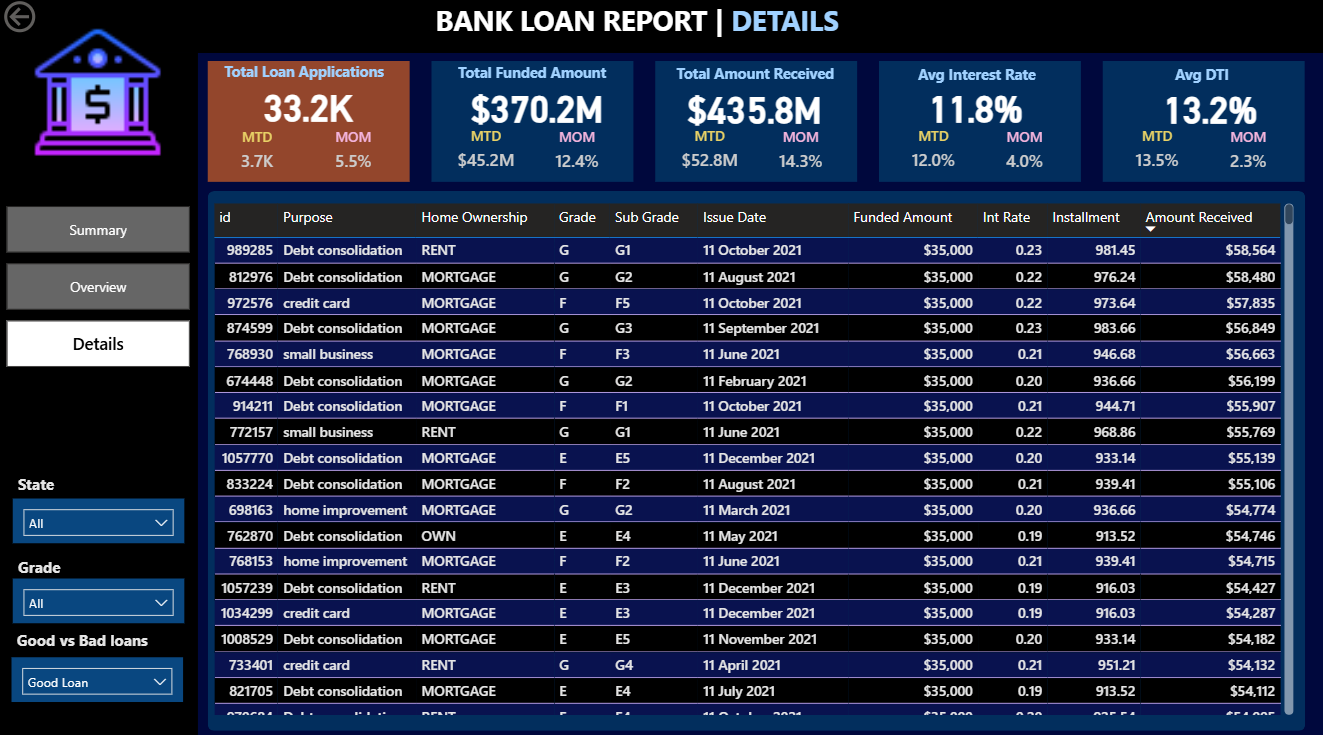

This screenshot's page, from the dashboard's own definition file:
{"tool":"powerbi","page":{"name":"Details ","canvas":[1280,720],"ordinal":2},"visuals":[{"type":"shape","box":[201.7,62.7,194.9,116.6],"z":0,"group":"g1"},{"type":"shape","box":[417.5,62.7,194.9,116.6],"z":0,"group":"g2"},{"type":"shape","box":[633.2,62.7,194.9,116.6],"z":0,"group":"g3"},{"type":"shape","box":[849.5,62.7,194.9,116.6],"z":0,"group":"g4"},{"type":"shape","box":[1065.3,62.7,194.9,116.6],"z":0,"group":"g5"},{"type":"shape","box":[201.5,188.2,1059.3,521.2],"z":0},{"type":"shape","box":[0,0,1280.3,55],"z":1000},{"type":"card","fields":{"Values":["bank_loan_data.Total Funded Amount"]},"box":[437.5,83.5,162.9,47.1],"z":1000,"group":"g2"},{"type":"card","fields":{"Values":["bank_loan_data.Total Amount Received"]},"box":[642.6,83.5,172.5,48.3],"z":1000,"group":"g3"},{"type":"card","fields":{"Values":["bank_loan_data.Avg DTI"]},"box":[1083.1,83.5,171.3,48.3],"z":1000,"group":"g5"},{"type":"card","fields":{"Values":["bank_loan_data.Avg Interest Rate"]},"box":[856.1,83.7,174.9,45.8],"z":1000,"group":"g4"},{"type":"card","fields":{"Values":["bank_loan_data.Total Loan Applications"]},"box":[219.5,84.7,157.8,42.5],"z":1000,"group":"g1"},{"type":"shape","box":[0,54.9,192,665.5],"z":2000},{"type":"textbox","box":[212.9,58.2,177.3,36.2],"z":2000,"group":"g1"},{"type":"textbox","box":[437.5,59.4,177.3,36.2],"z":2000,"group":"g2"},{"type":"textbox","box":[634.2,60.6,190.6,35],"z":2000,"group":"g3"},{"type":"textbox","box":[882.6,61.8,148.4,31.4],"z":2000,"group":"g4"},{"type":"textbox","box":[1092.7,61.8,143.6,31.4],"z":2000,"group":"g5"},{"type":"textbox","box":[415.6,0,448.7,50.8],"z":3000},{"type":"card","title":"MTD","fields":{"Values":["bank_loan_data.MTD Funded Amount"]},"box":[436.7,126.2,66.5,52],"z":3000,"group":"g2"},{"type":"card","title":"MTD","fields":{"Values":["bank_loan_data.MTD Total Amount Received"]},"box":[652.4,126.2,66.5,52],"z":3000,"group":"g3"},{"type":"card","title":"MTD","fields":{"Values":["bank_loan_data.MTD Average Int Rate"]},"box":[868.7,126.2,66.5,52],"z":3000,"group":"g4"},{"type":"card","title":"MTD","fields":{"Values":["bank_loan_data.MTD Average DTI"]},"box":[1084.5,126.2,66.5,52],"z":3000,"group":"g5"},{"type":"card","title":"MTD","fields":{"Values":["bank_loan_data.MTD Loan Applications"]},"box":[219.5,127.2,59,52.1],"z":3000,"group":"g1"},{"type":"group","id":"g1","title":"Group 1","box":[201.7,58.2,194.9,121.1],"z":4000},{"type":"card","title":"MOM","fields":{"Values":["bank_loan_data.MOM Loan Applications"]},"box":[312.8,127.2,59,52.1],"z":4000,"group":"g1"},{"type":"card","title":"MOM","fields":{"Values":["bank_loan_data.MOM Total Funded Amount"]},"box":[528.6,127.2,59,52.1],"z":4000,"group":"g2"},{"type":"card","title":"MOM","fields":{"Values":["bank_loan_data.MOM Total Amount Received"]},"box":[744.3,127.2,59,52.1],"z":4000,"group":"g3"},{"type":"card","title":"MOM","fields":{"Values":["bank_loan_data.MOM Avg Int Rate"]},"box":[960.6,127.2,59,52.1],"z":4000,"group":"g4"},{"type":"card","title":"MOM","fields":{"Values":["bank_loan_data.MOM Avg DTI"]},"box":[1176.4,127.2,59,52.1],"z":4000,"group":"g5"},{"type":"group","id":"g2","title":"Group 1","box":[417.5,59.4,197.3,119.9],"z":5000},{"type":"group","id":"g3","title":"Group 1","box":[633.2,60.6,194.9,118.7],"z":6000},{"type":"group","id":"g4","title":"Group 1","box":[849.5,61.8,194.9,117.5],"z":7000},{"type":"group","id":"g5","title":"Group 1","box":[1065.3,61.8,194.9,117.5],"z":8000},{"type":"actionButton","box":[0,0,100,40],"z":9000},{"type":"slicer","fields":{"Values":["bank_loan_data.address_state"]},"box":[13.5,485.2,165.3,43.4],"z":10000},{"type":"textbox","box":[13.5,456.3,103.8,39.8],"z":11000},{"type":"slicer","fields":{"Values":["bank_loan_data.grade"]},"box":[13.5,562.4,165.3,43.4],"z":12000},{"type":"textbox","box":[13.5,535.9,103.8,37.4],"z":13000},{"type":"slicer","fields":{"Values":["bank_loan_data.Good Vs Bad loans"]},"box":[12.5,637.7,165.3,43.4],"z":14000},{"type":"textbox","box":[12.1,606.8,152,37.4],"z":15000},{"type":"tableEx","fields":{"Values":["bank_loan_data.id","bank_loan_data.purpose","bank_loan_data.home_ownership","bank_loan_data.grade","bank_loan_data.sub_grade","bank_loan_data.issue_date","bank_loan_data.Total Funded Amount","Sum(bank_loan_data.int_rate)","Sum(bank_loan_data.installment)","bank_loan_data.Total Amount Received"]},"box":[201.5,195.4,1053.2,503.1],"z":16000},{"type":"image","box":[14.5,13.3,161.7,159.3],"z":17000},{"type":"pageNavigator","box":[7.2,202.7,177.3,156.8],"z":18000}]}

Visuals, with their boxes in screenshot pixels (x1, y1, x2, y2), scaled from the page's 1280x720 canvas onto the 1323x735 screenshot:
shape: [208,64,410,183]
shape: [432,64,633,183]
shape: [654,64,856,183]
shape: [878,64,1079,183]
shape: [1101,64,1303,183]
shape: [208,192,1303,724]
shape: [0,0,1322,56]
card - bank_loan_data.Total Funded Amount: [452,85,621,133]
card - bank_loan_data.Total Amount Received: [664,85,842,135]
card - bank_loan_data.Avg DTI: [1119,85,1297,135]
card - bank_loan_data.Avg Interest Rate: [885,85,1066,132]
card - bank_loan_data.Total Loan Applications: [227,86,390,130]
shape: [0,56,198,734]
textbox: [220,59,403,96]
textbox: [452,61,635,98]
textbox: [656,62,853,98]
textbox: [912,63,1066,95]
textbox: [1129,63,1278,95]
textbox: [430,0,893,52]
"MTD" card: [451,129,520,182]
"MTD" card: [674,129,743,182]
"MTD" card: [898,129,967,182]
"MTD" card: [1121,129,1190,182]
"MTD" card: [227,130,288,183]
"Group 1" group: [208,59,410,183]
"MOM" card: [323,130,384,183]
"MOM" card: [546,130,607,183]
"MOM" card: [769,130,830,183]
"MOM" card: [993,130,1054,183]
"MOM" card: [1216,130,1277,183]
"Group 1" group: [432,61,635,183]
"Group 1" group: [654,62,856,183]
"Group 1" group: [878,63,1079,183]
"Group 1" group: [1101,63,1303,183]
actionButton: [0,0,103,41]
slicer - bank_loan_data.address_state: [14,495,185,540]
textbox: [14,466,121,506]
slicer - bank_loan_data.grade: [14,574,185,618]
textbox: [14,547,121,585]
slicer - bank_loan_data.Good Vs Bad loans: [13,651,184,695]
textbox: [13,619,170,658]
tableEx - bank_loan_data.id x bank_loan_data.purpose: [208,199,1297,713]
image: [15,14,182,176]
pageNavigator: [7,207,191,367]
